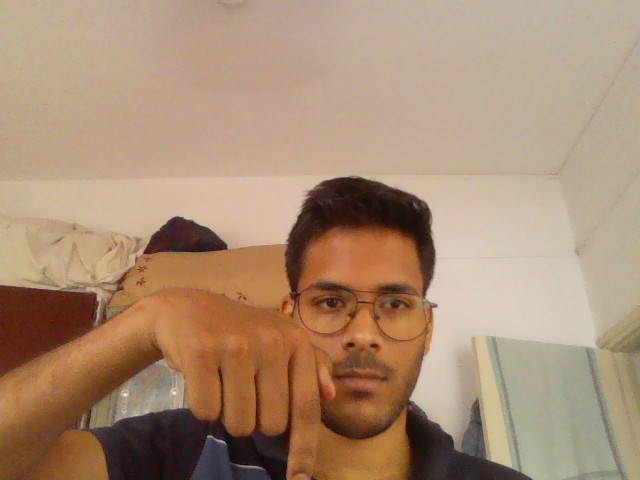yes: (132, 272, 358, 480)
